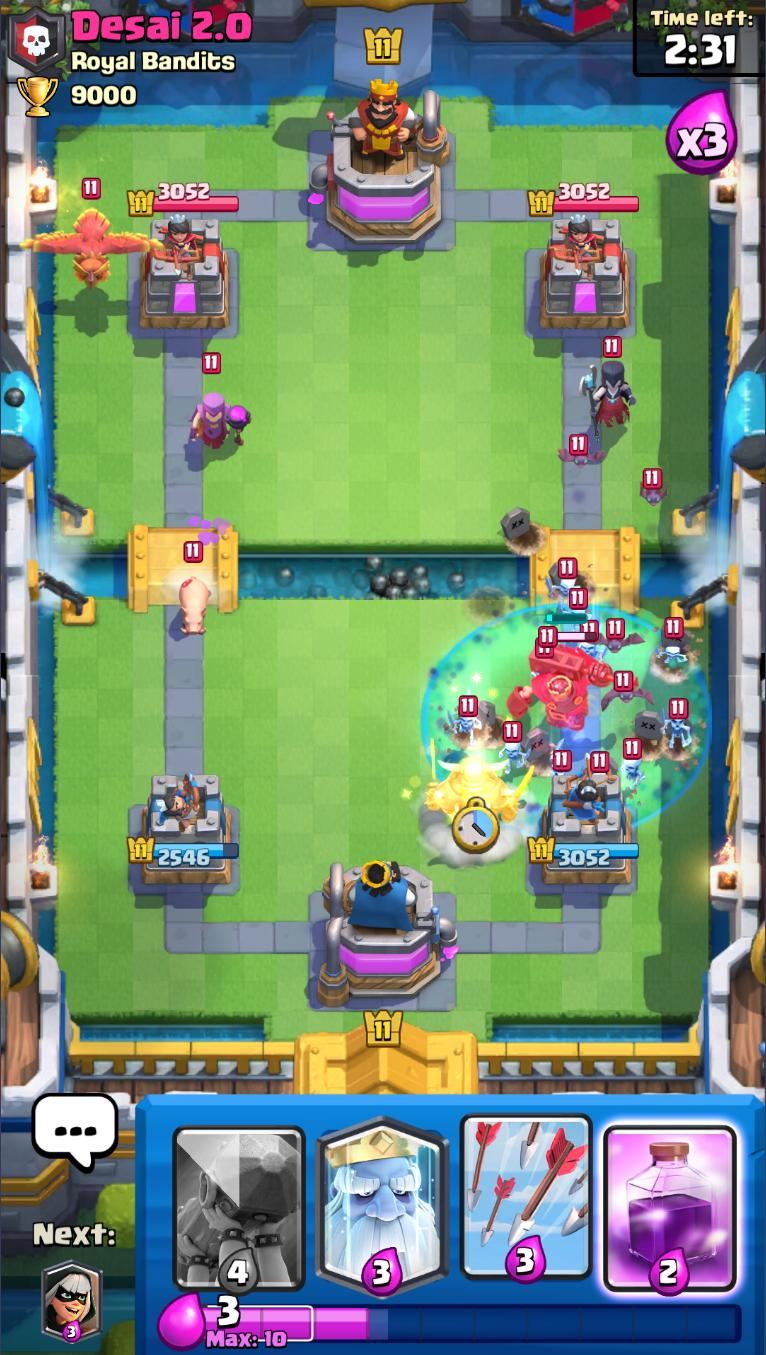ArrowDeck: (455, 1096, 598, 1297)
BanditNext: (42, 1262, 102, 1342)
Bat: (585, 618, 644, 656), (600, 671, 656, 711), (559, 434, 607, 469), (641, 465, 670, 507)
BattleRamDeck: (167, 1095, 311, 1295)
Elixir: (201, 1296, 743, 1350)
EnemyTower: (138, 215, 232, 331), (539, 215, 632, 331)
KingTower: (310, 79, 451, 248)
MotherWitch: (190, 351, 252, 454)
MyKingTower: (314, 857, 459, 1008)
MyPekka: (422, 733, 535, 828)
MyPrincessTower: (126, 773, 242, 889), (528, 770, 641, 889)
MyPrincessTowerHP: (125, 836, 241, 870), (527, 835, 641, 868)
NightWitch: (579, 336, 639, 439)
Phoenix: (20, 177, 166, 290)
Pig: (177, 541, 213, 637)
PrincessTower: (149, 215, 203, 277), (551, 215, 604, 273)
RageDeck: (597, 1097, 743, 1297)
RoyaleGhostDeck: (310, 1095, 457, 1296)
Skeleton: (655, 618, 694, 674), (658, 697, 696, 750), (495, 723, 531, 775), (546, 557, 583, 607), (447, 695, 485, 741), (561, 588, 596, 633), (616, 741, 645, 786), (573, 619, 604, 658)
SkeletonKing: (498, 591, 627, 709)
SkeletonKingAbility: (422, 600, 711, 836)
TowerPrincessHP: (127, 182, 240, 217), (528, 182, 641, 216)
